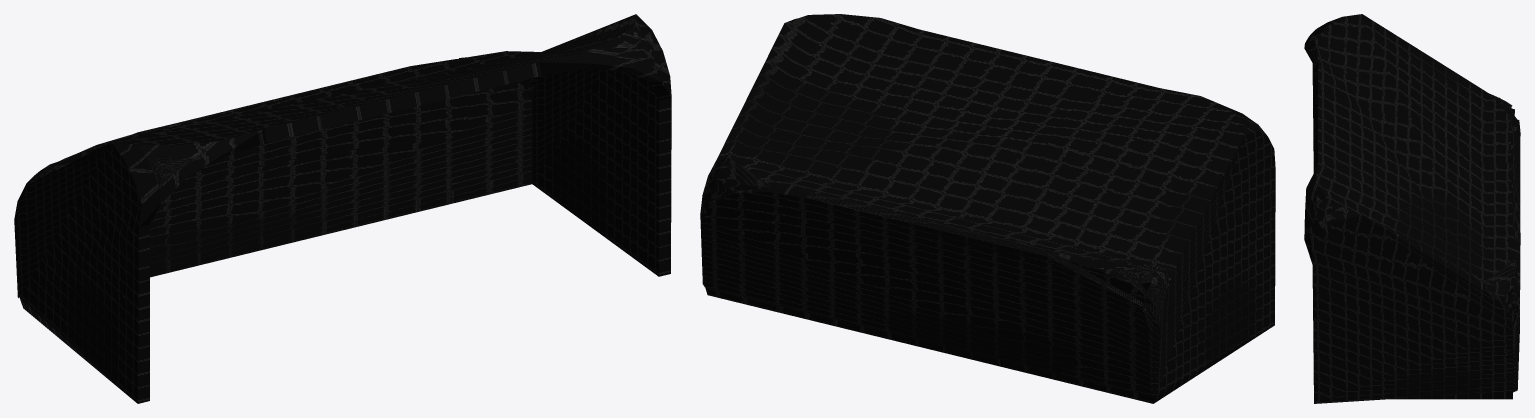
The model's file is Arco.obj.
The picture shows the model from 3 angles, left to right: view 1: azimuth 30°, elevation 25°; view 2: azimuth 150°, elevation 25°; view 3: azimuth 270°, elevation 25°; orthographic projection. The views are drawn at different scales.
Parts seen in each view (by area): view 1: Cube; view 2: Cube; view 3: Cube.
Part boxes in pixels (left/top/right/bottom): Cube: left=14, top=14, right=671, bottom=403; Cube: left=700, top=14, right=1275, bottom=403; Cube: left=1304, top=14, right=1520, bottom=403.
Size of the model in its own units: 4.86 by 2.11 by 2.17.
